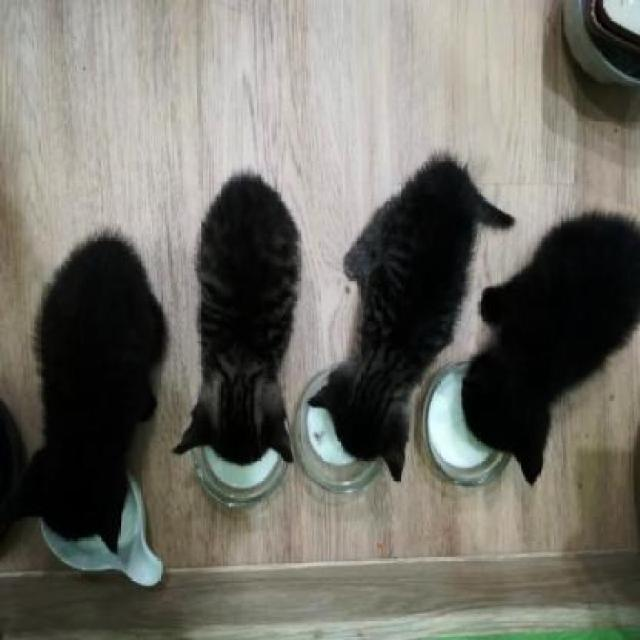cat: (305, 126, 481, 480), (9, 224, 169, 562), (454, 204, 640, 491), (172, 168, 306, 504)
